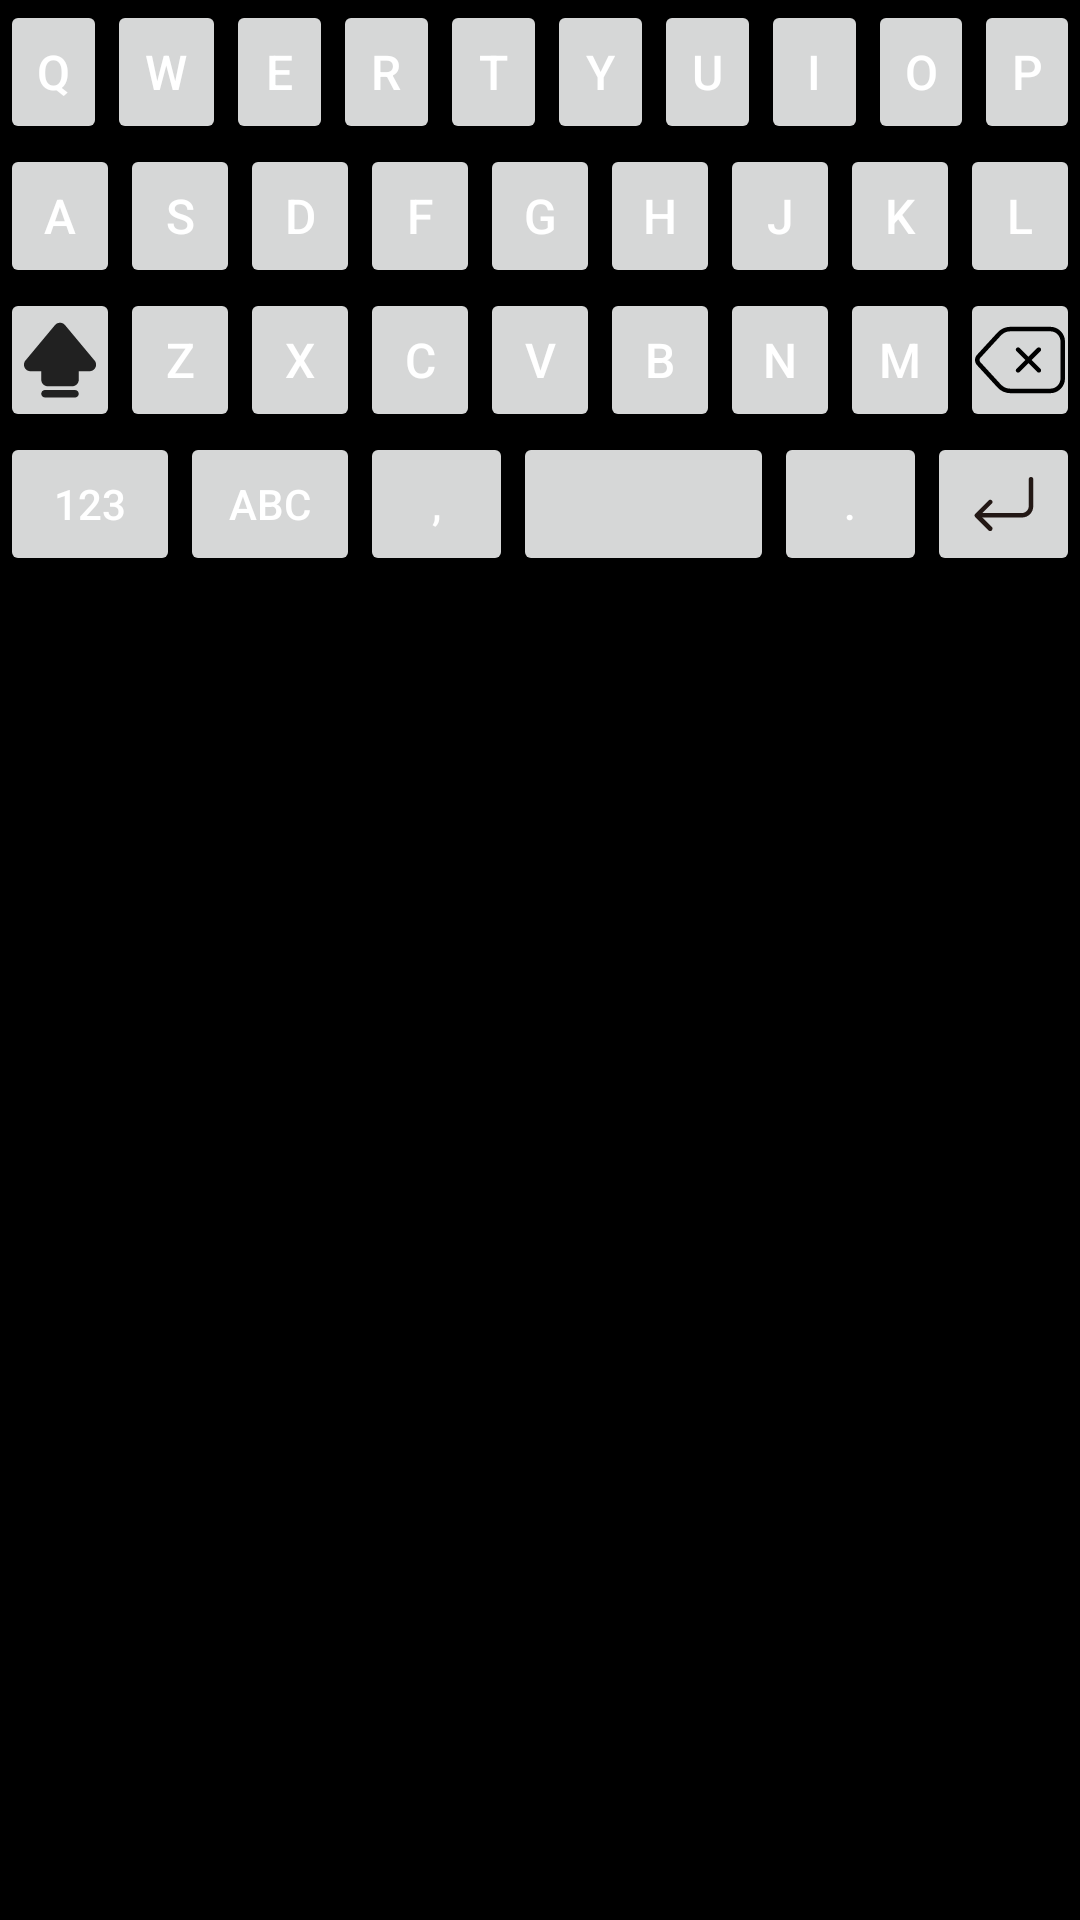

Icon click points for this 1080*1920 phone screenshot, format point (x, y):
delete: point (1020, 360)
DONE: point (1003, 504)
keyboard shift uppercase: point (60, 360)
